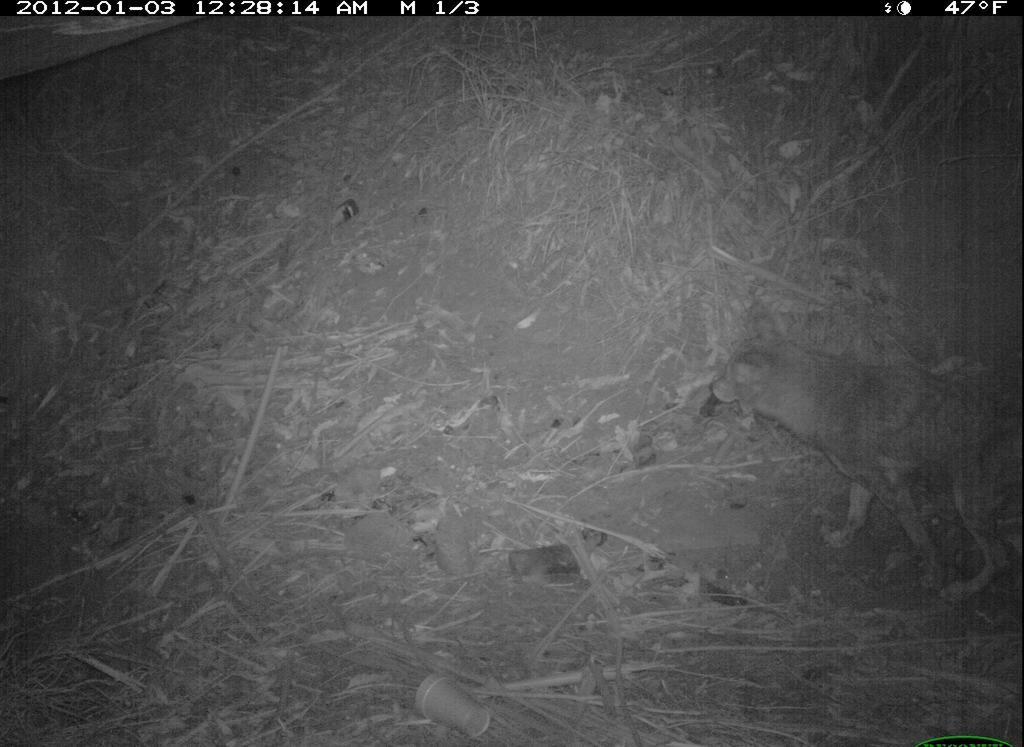coyote: (701, 328, 1008, 598)
